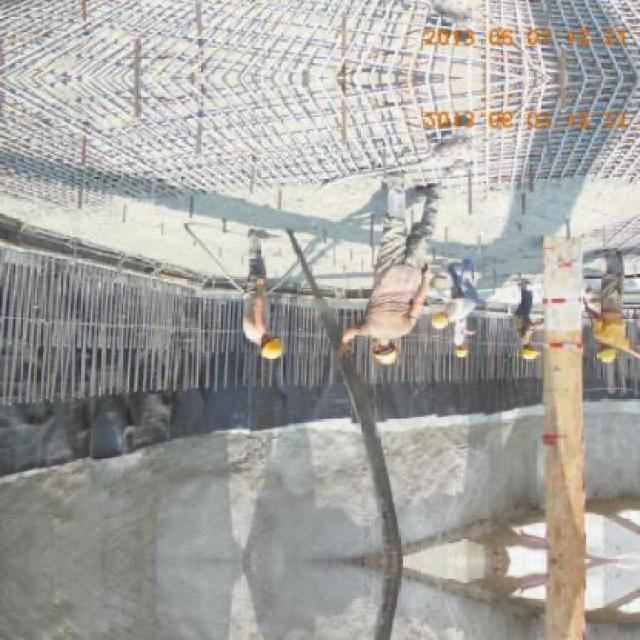con casco: (350, 305, 410, 370), (220, 315, 276, 366), (510, 330, 556, 372), (585, 338, 626, 366), (424, 298, 456, 332), (449, 339, 473, 366)
